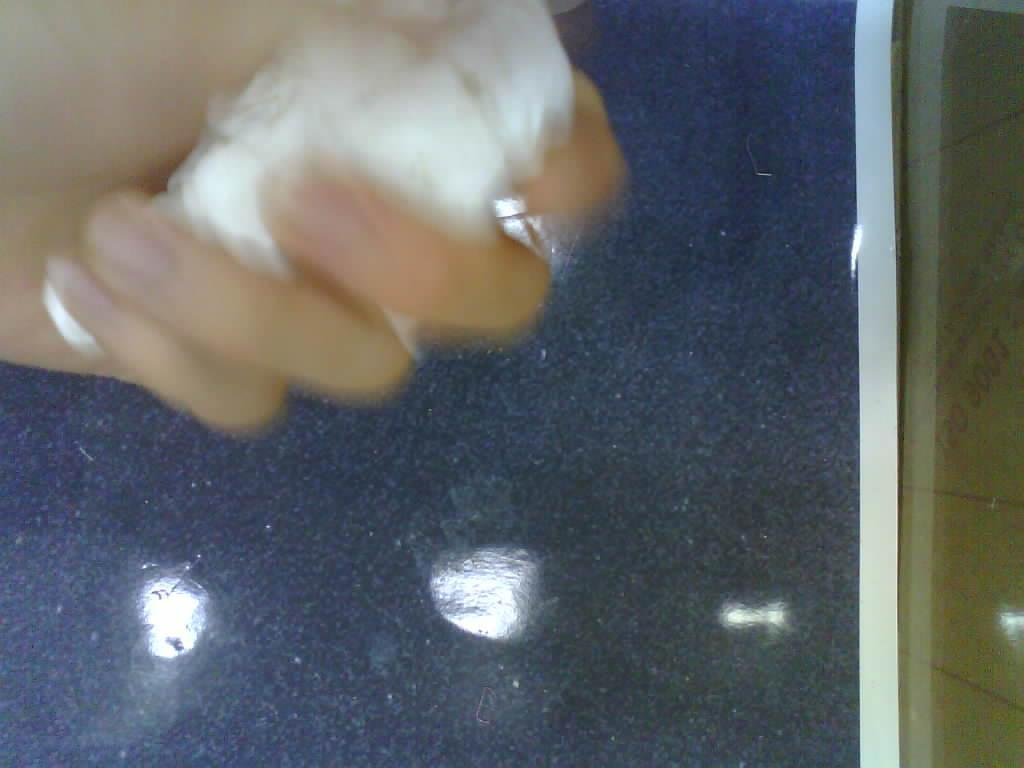paper: (37, 2, 572, 394)
